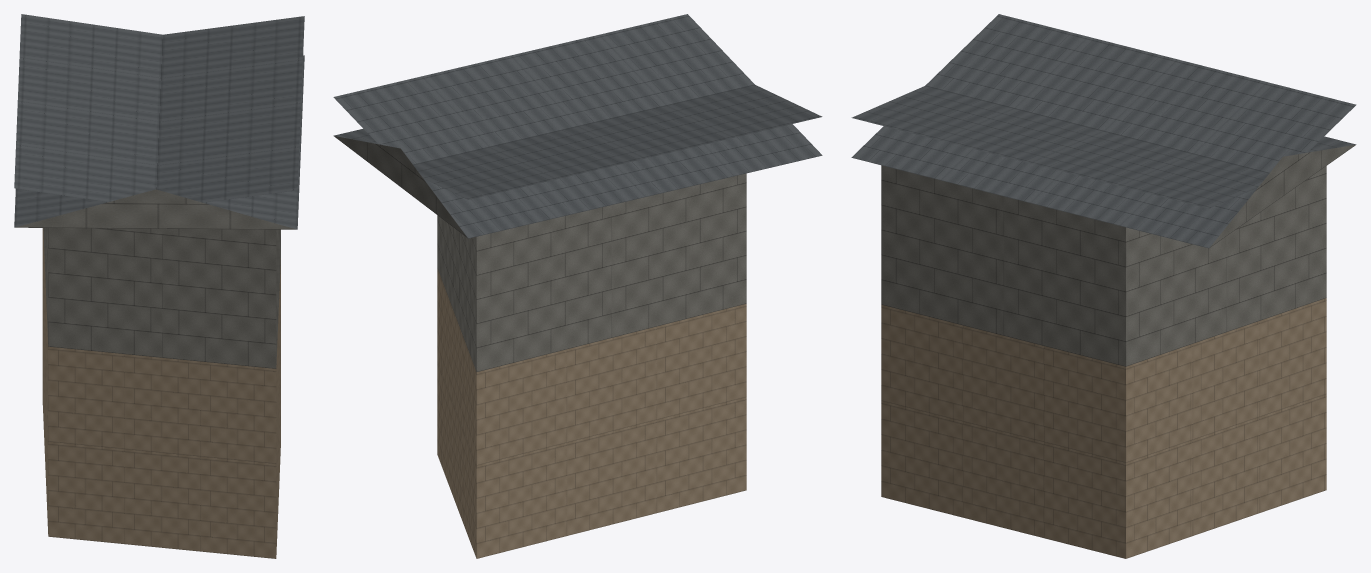
File: bld_c-23_-2_669.gltf
3 renders of one model, left to right at view 1: azimuth 30°, elevation 25°; view 2: azimuth 150°, elevation 25°; view 3: azimuth 270°, elevation 25°, orthographic. The views are drawn at different scales.
Visible parts, largest first — view 1: bld_c-23_-2_669; view 2: bld_c-23_-2_669; view 3: bld_c-23_-2_669.
Part boxes in pixels (x1,y1,x2,y2): bld_c-23_-2_669: (14, 14, 304, 558); bld_c-23_-2_669: (333, 14, 822, 558); bld_c-23_-2_669: (851, 14, 1356, 558).
Bounding box in the file's own units: 10.49 × 9.6 × 11.5.
Materials: 4 (4 with a texture image).
